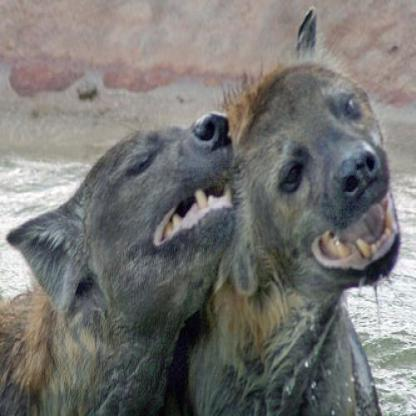African_hunting_dog: (189, 5, 400, 413), (0, 105, 236, 413)
